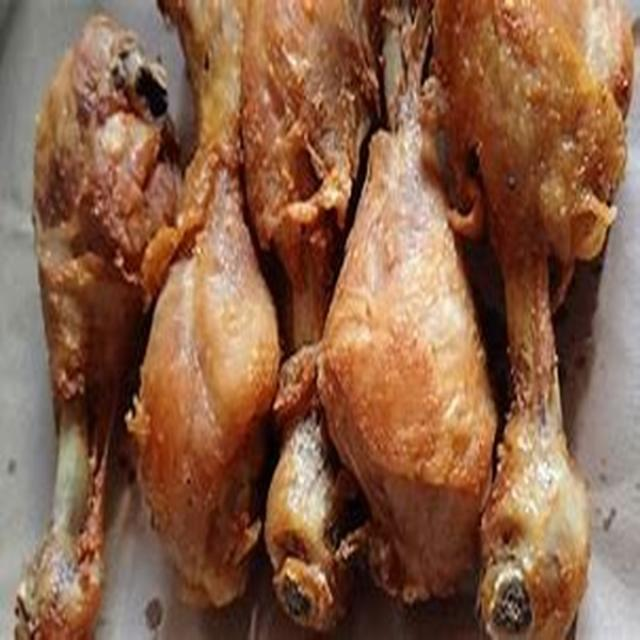CHICKEN FRY: (17, 0, 636, 639)
